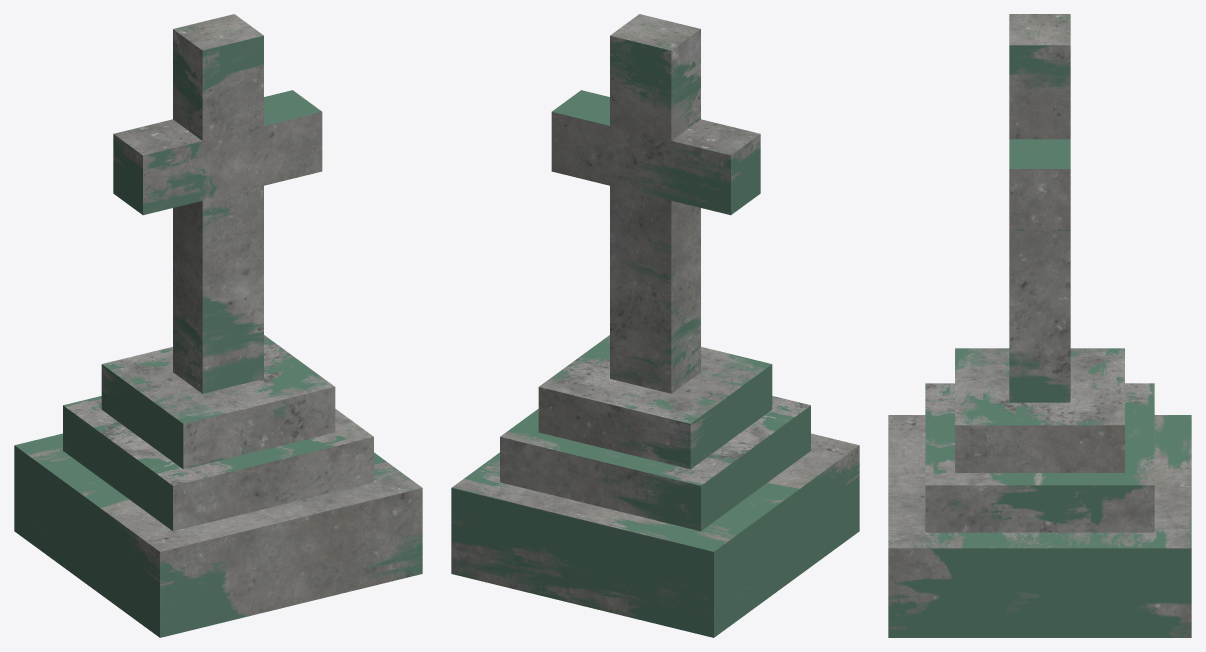
Rendered from Cross_Ready.fbx.
The picture shows the model from 3 angles, left to right: view 1: azimuth 30°, elevation 25°; view 2: azimuth 150°, elevation 25°; view 3: azimuth 270°, elevation 25°; orthographic projection. The views are drawn at different scales.
Parts seen in each view (by area): view 1: Cross; view 2: Cross; view 3: Cross.
Boxes of the visible parts, x1,y1,x2,y2 form: Cross: (14, 14, 422, 637); Cross: (451, 14, 859, 637); Cross: (888, 14, 1191, 637).
Size of the model in its own units: 383 by 725 by 368.
